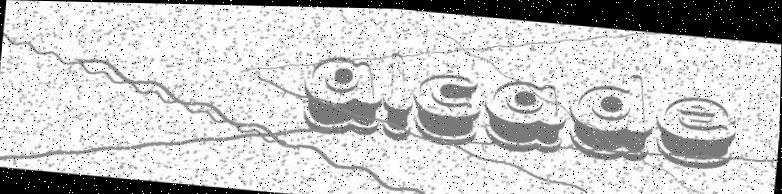a: (301, 53, 386, 136), (483, 76, 570, 152)
c: (411, 70, 483, 145)
d: (567, 66, 657, 162)
e: (653, 91, 739, 169)
l: (380, 51, 417, 140)
